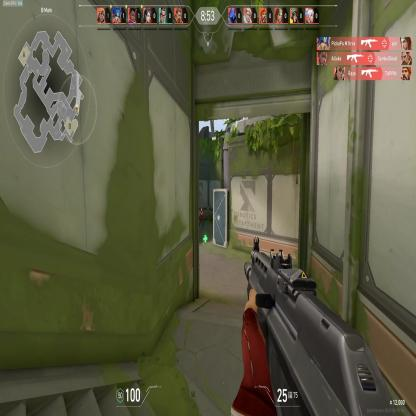enemy: (199, 207, 204, 229)
